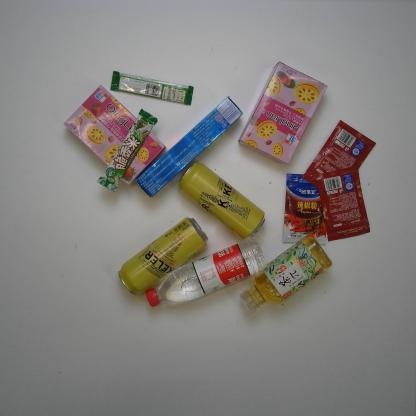Alcohol: (117, 217, 208, 299), (176, 159, 266, 241)
Chocolate: (98, 108, 159, 193), (109, 67, 196, 106)
Dessert: (64, 86, 166, 184), (239, 59, 330, 165)
Drink: (145, 235, 269, 308), (238, 234, 333, 308)
Personal Hygiene: (137, 96, 245, 200)
Seasoner: (302, 118, 376, 181), (316, 165, 372, 242), (282, 171, 330, 247)
